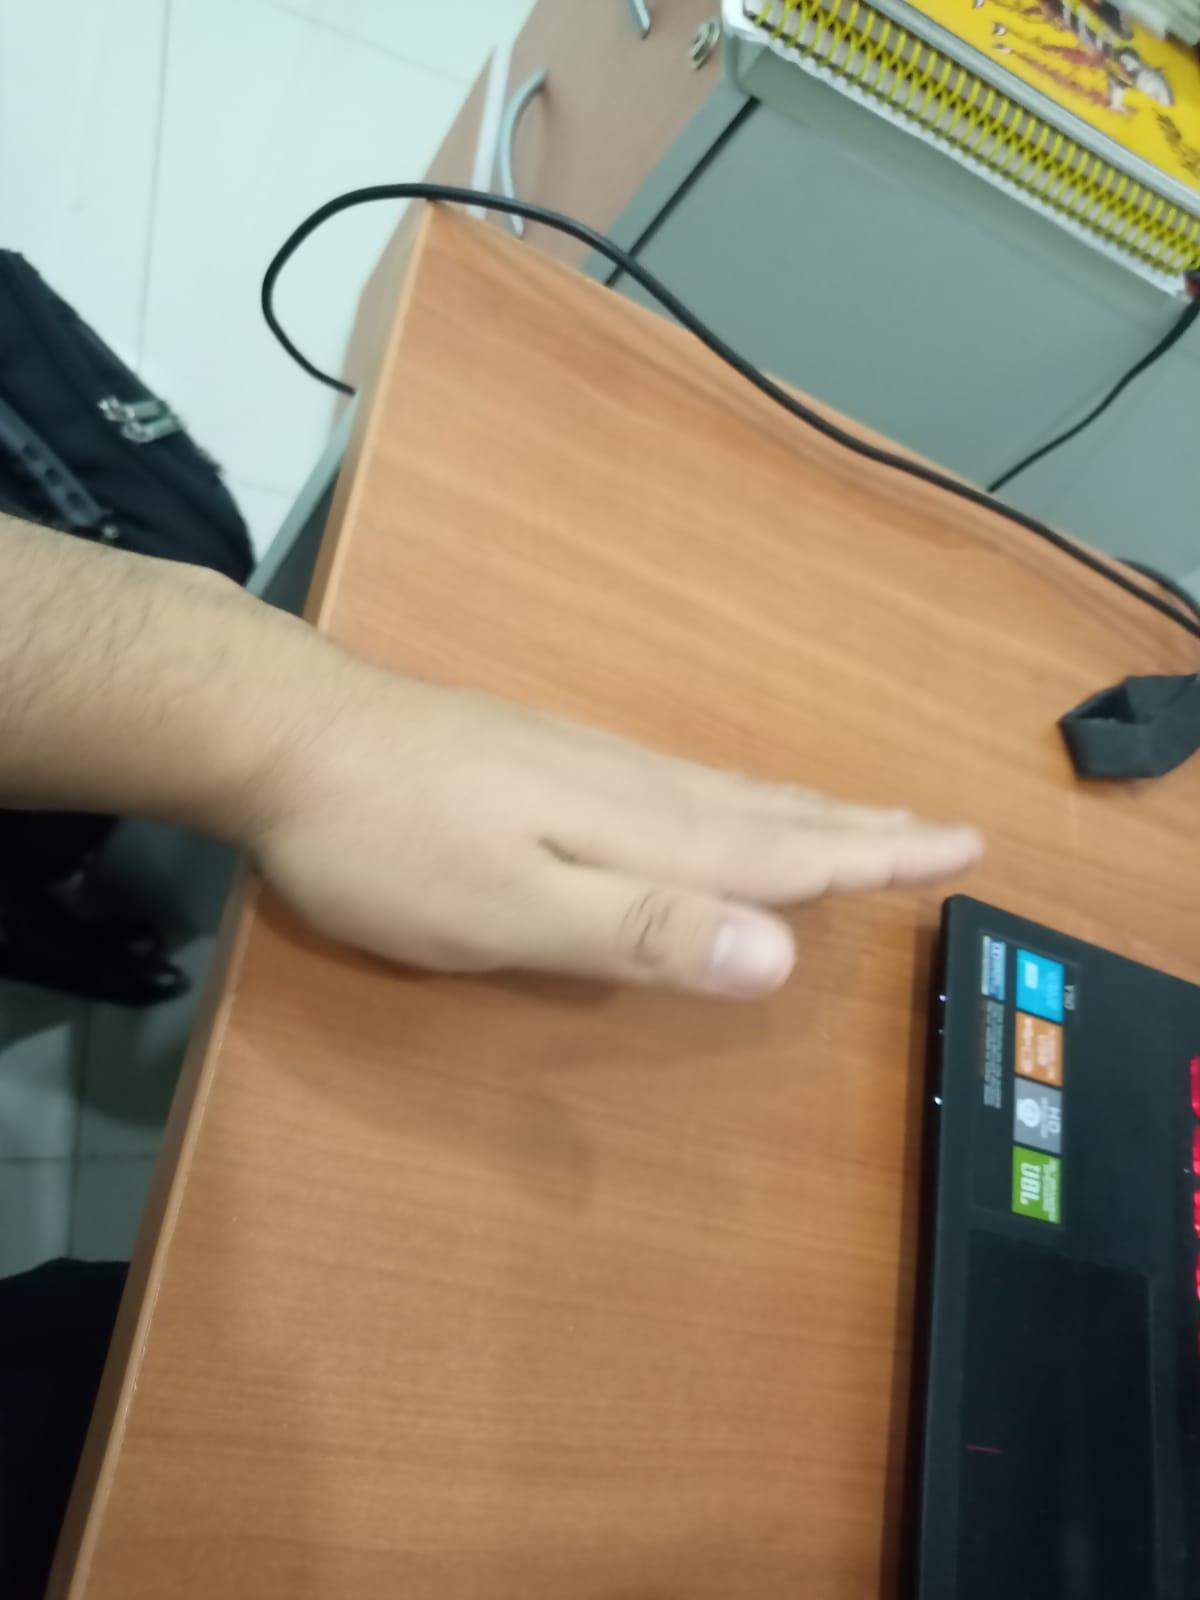Paper: (256, 563, 1022, 1052)
